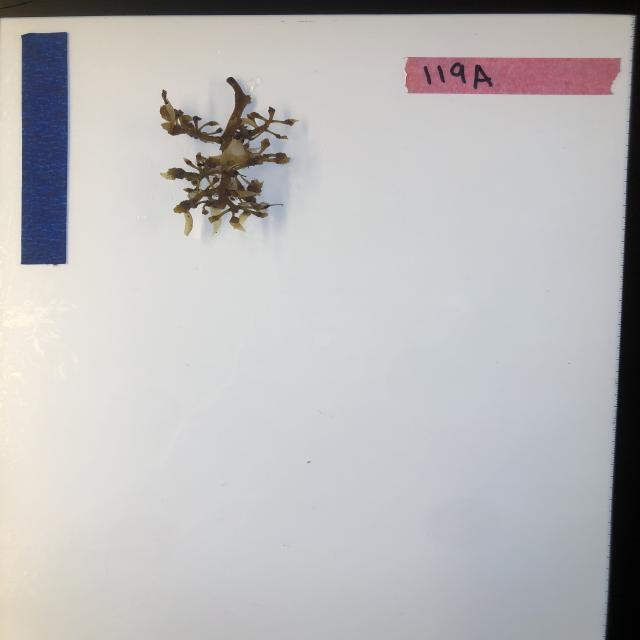index: (402, 54, 625, 98)
measure_label: (19, 30, 73, 267)
rachis_cluster: (153, 72, 307, 238)
